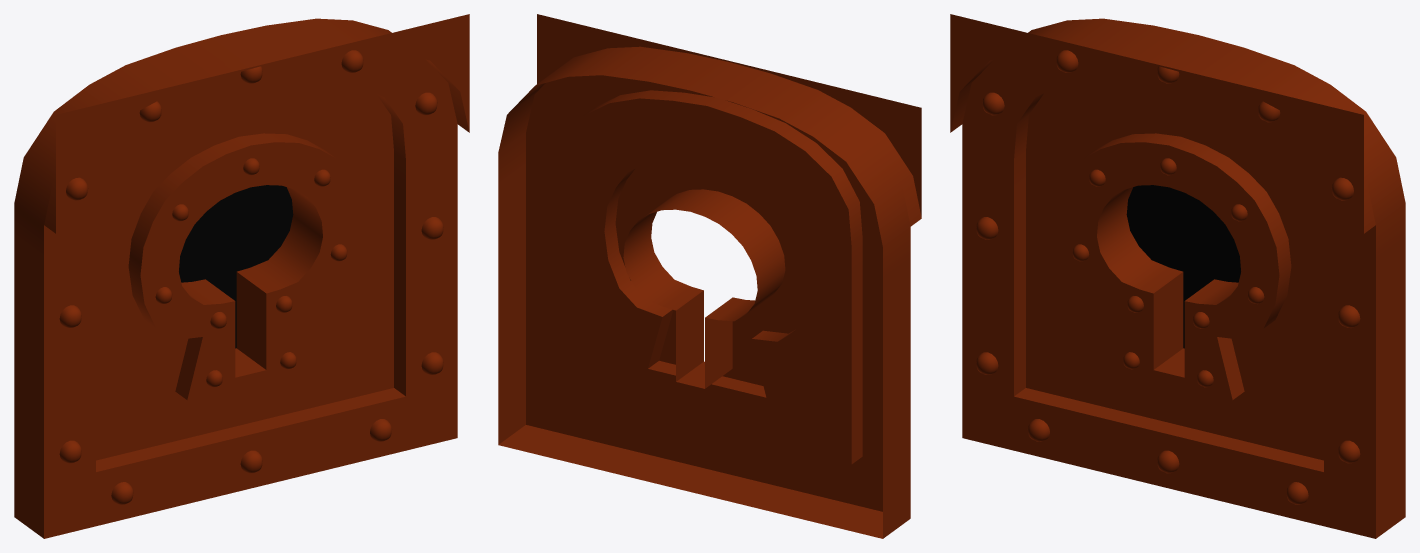
File: BT_KeyDoor.fbx
3 renders of one model, left to right at view 1: azimuth 30°, elevation 25°; view 2: azimuth 150°, elevation 25°; view 3: azimuth 330°, elevation 25°, orthographic. The views are drawn at different scales.
Parts seen in each view (by area): view 1: KeyDoor.Door, KeyDoor.Arch; view 2: KeyDoor.Door, KeyDoor.Arch; view 3: KeyDoor.Door, KeyDoor.Arch.
Part boxes in pixels (box(x1,y1,x2,y2)): KeyDoor.Door: box(14, 18, 457, 538); KeyDoor.Arch: box(44, 14, 469, 233); KeyDoor.Door: box(498, 55, 910, 538); KeyDoor.Arch: box(537, 14, 921, 226); KeyDoor.Door: box(962, 18, 1405, 538); KeyDoor.Arch: box(950, 14, 1375, 233).
Bounding box in the file's own units: 200 × 200 × 35.
